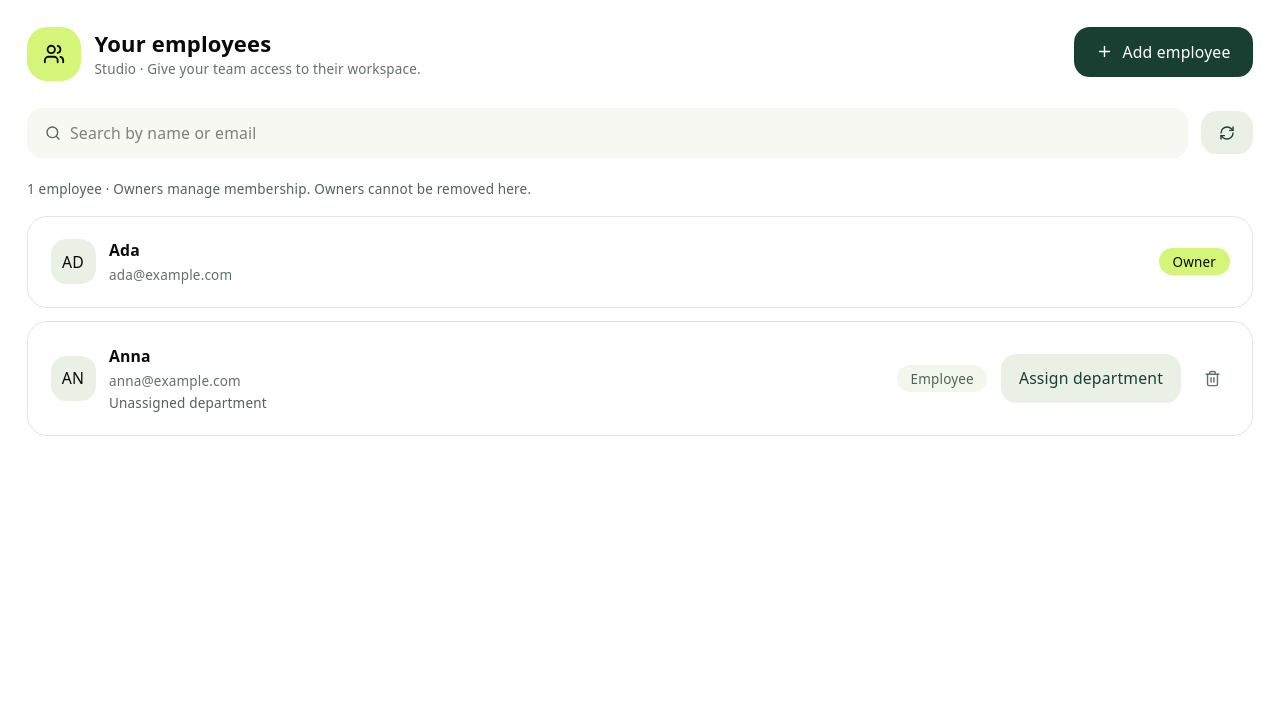
validates email locally and trims it before sending an atomic department assignment
Check: the list named "Workspace members" is shown, box [27,216,1253,436]
Click the button "Add employee": (1163, 52) [1074,27,1253,76]
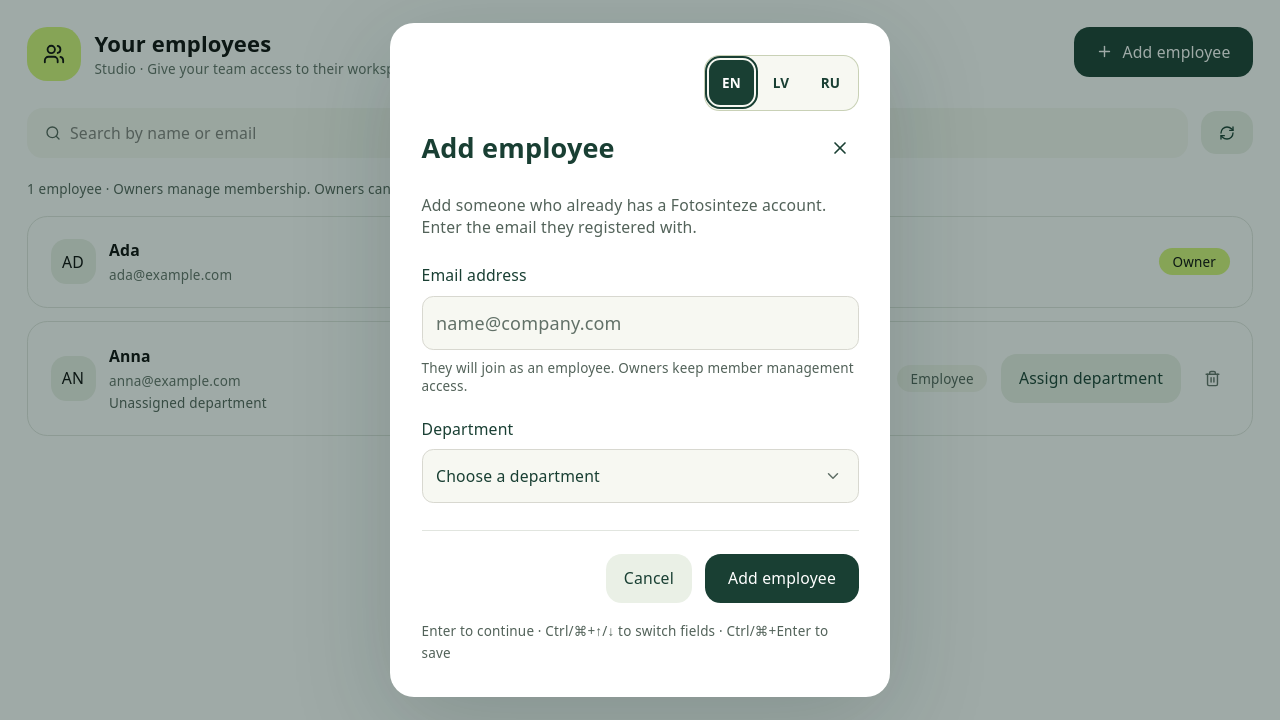
Select "Development" in the dropdown labelled "Department": (640, 476) [422,449,858,503]
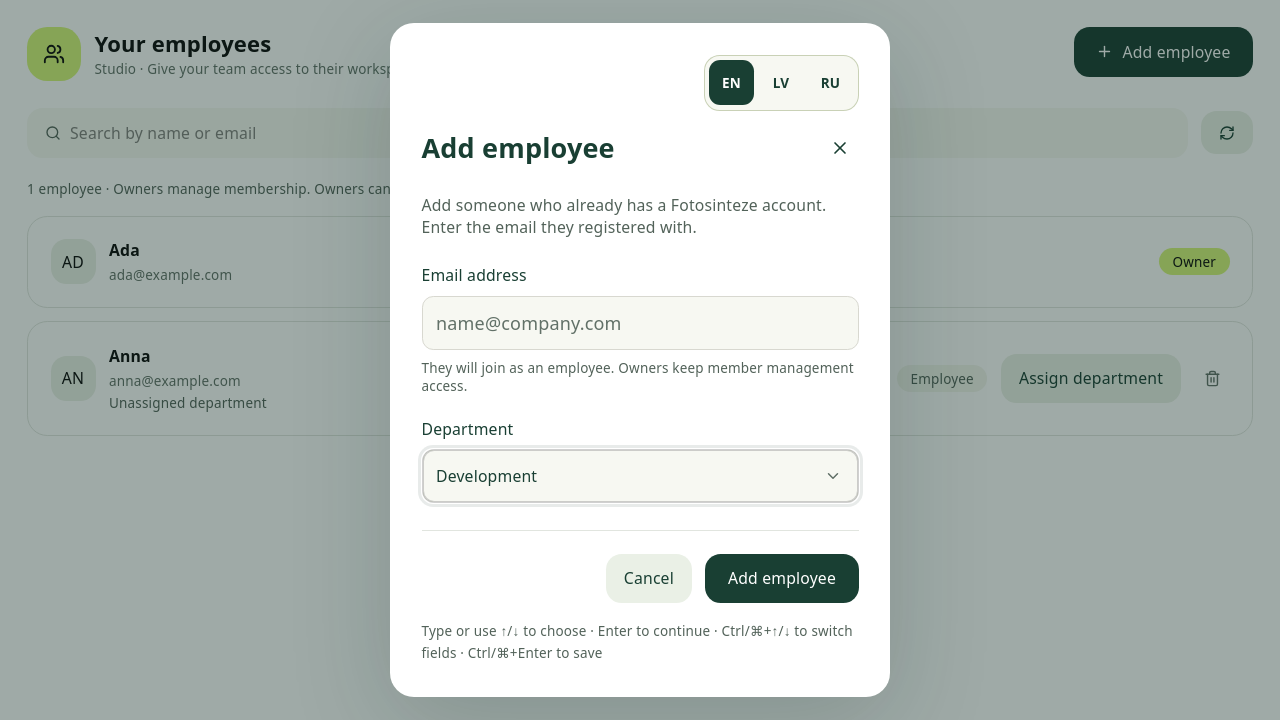
Click the button "Add employee": (782, 579) [705,554,858,603]
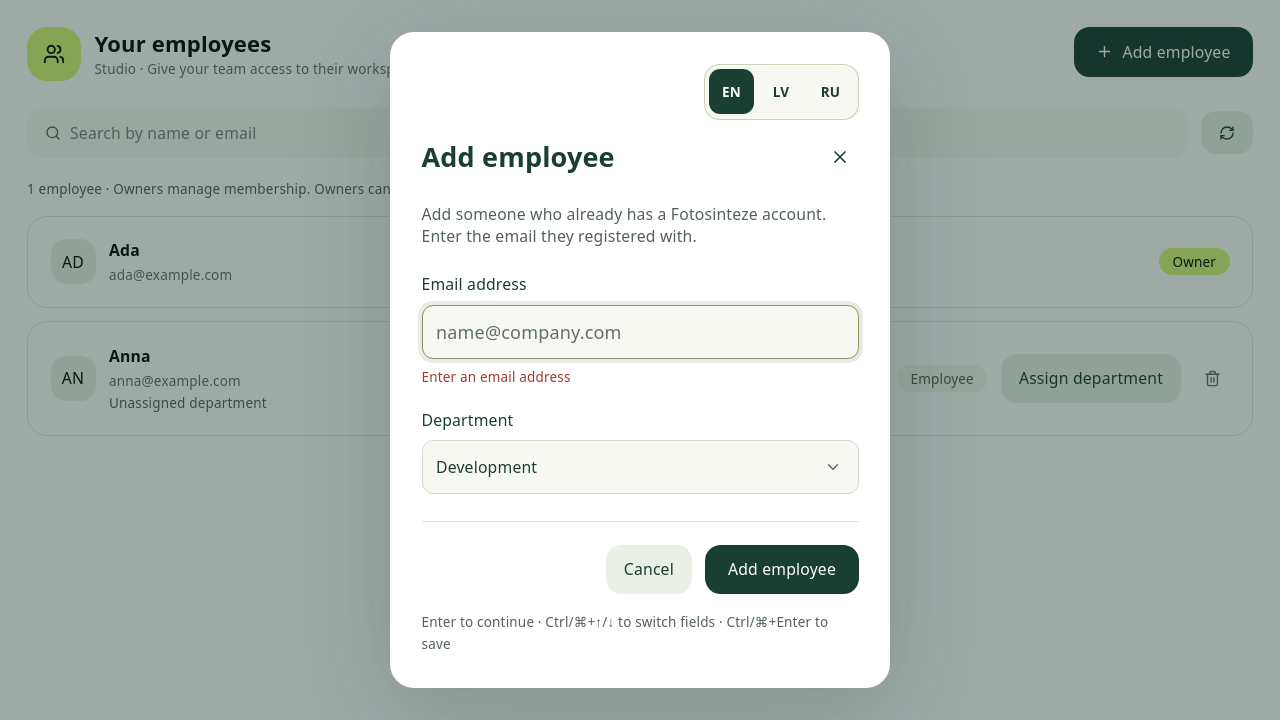
Check: the message "Enter an email address" is shown, box [422,368,571,386]
In the field labelled "Email address": (640, 332) [422,305,858,359], type "  new@example.com  "
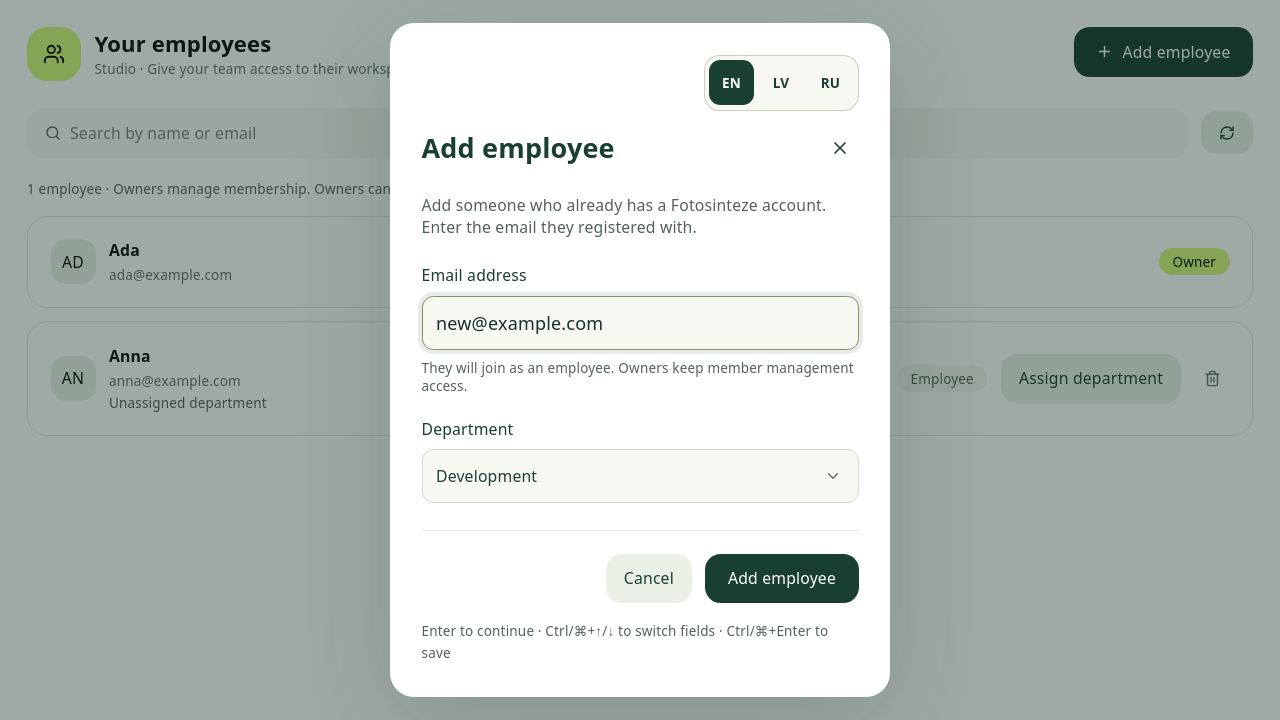
Click the button "Add employee": (782, 579) [705,554,858,603]
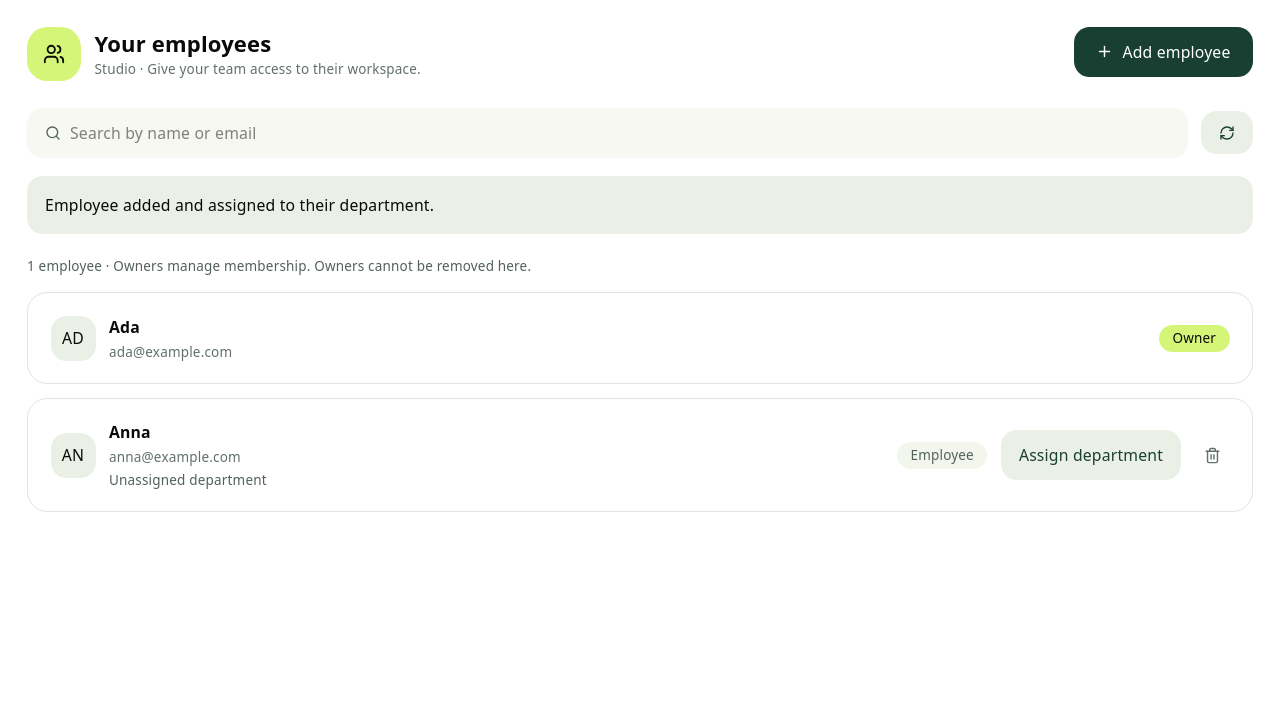
Check: the dialog is gone
